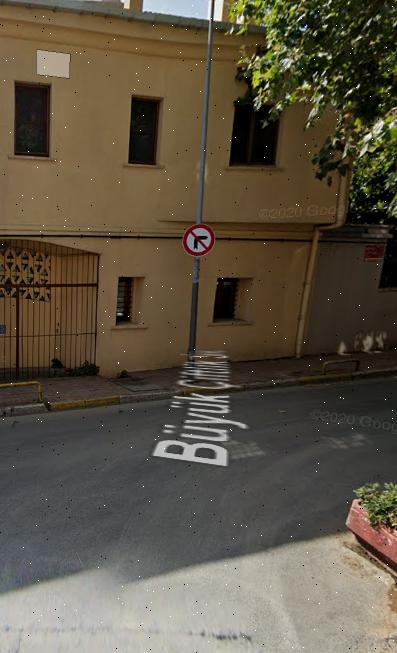rightturnsareforbidden: (185, 225, 214, 256)
